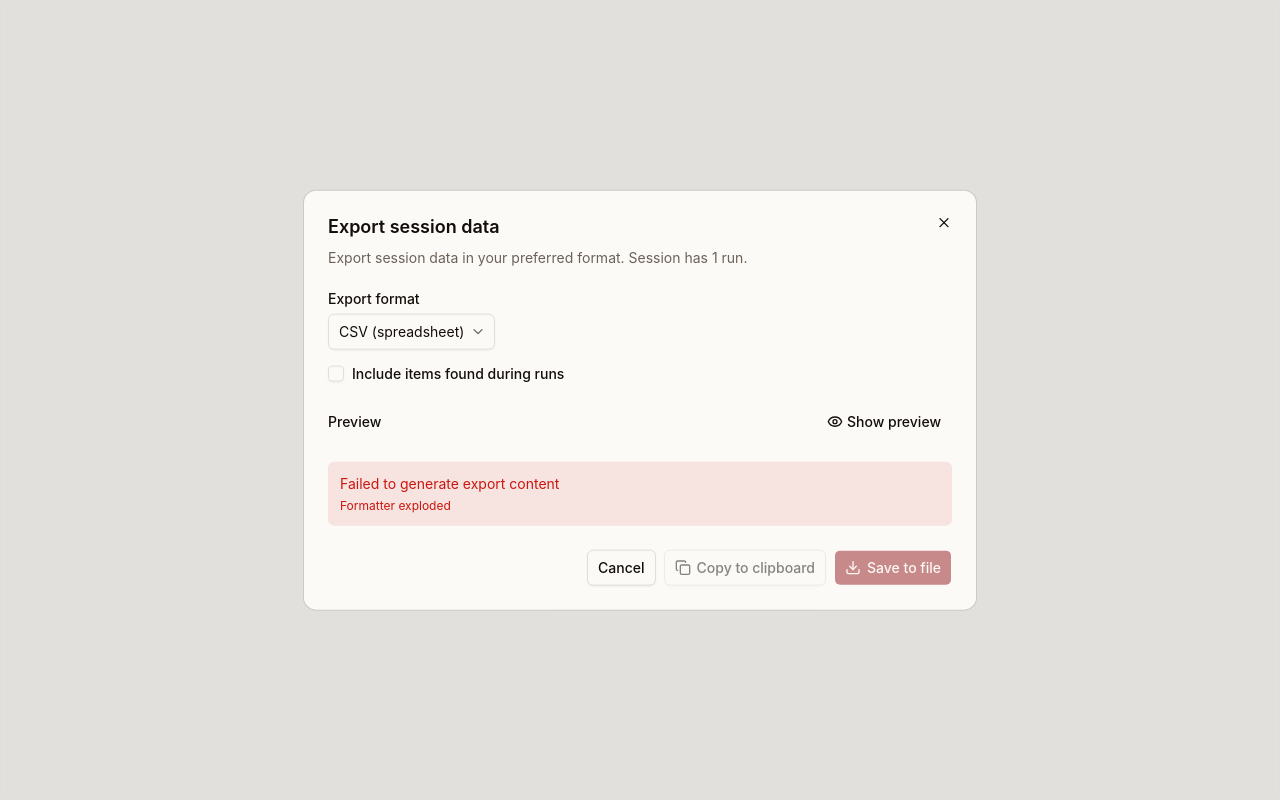
Test: When using the session export dialog › If generating the export fails and the format is then changed successfully, Then the generation error is cleared
Expected: the message shows "Failed to generate export content", x1=340 y1=474 x2=560 y2=491
Expected: the message shows "Formatter exploded", x1=340 y1=497 x2=451 y2=512
Click the dropdown named "Export format": (412, 331) x1=328 y1=313 x2=495 y2=349
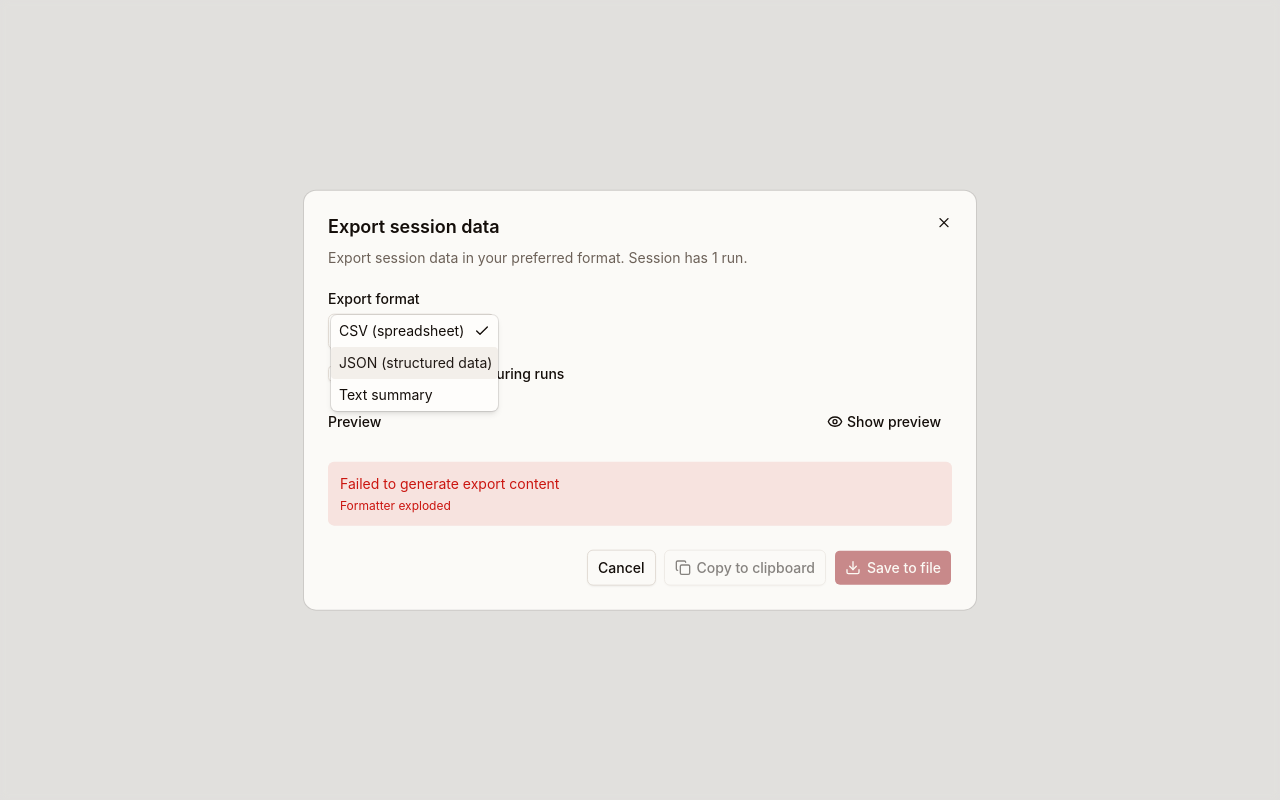
Click the option "JSON (structured data)": (414, 363) x1=331 y1=347 x2=498 y2=379
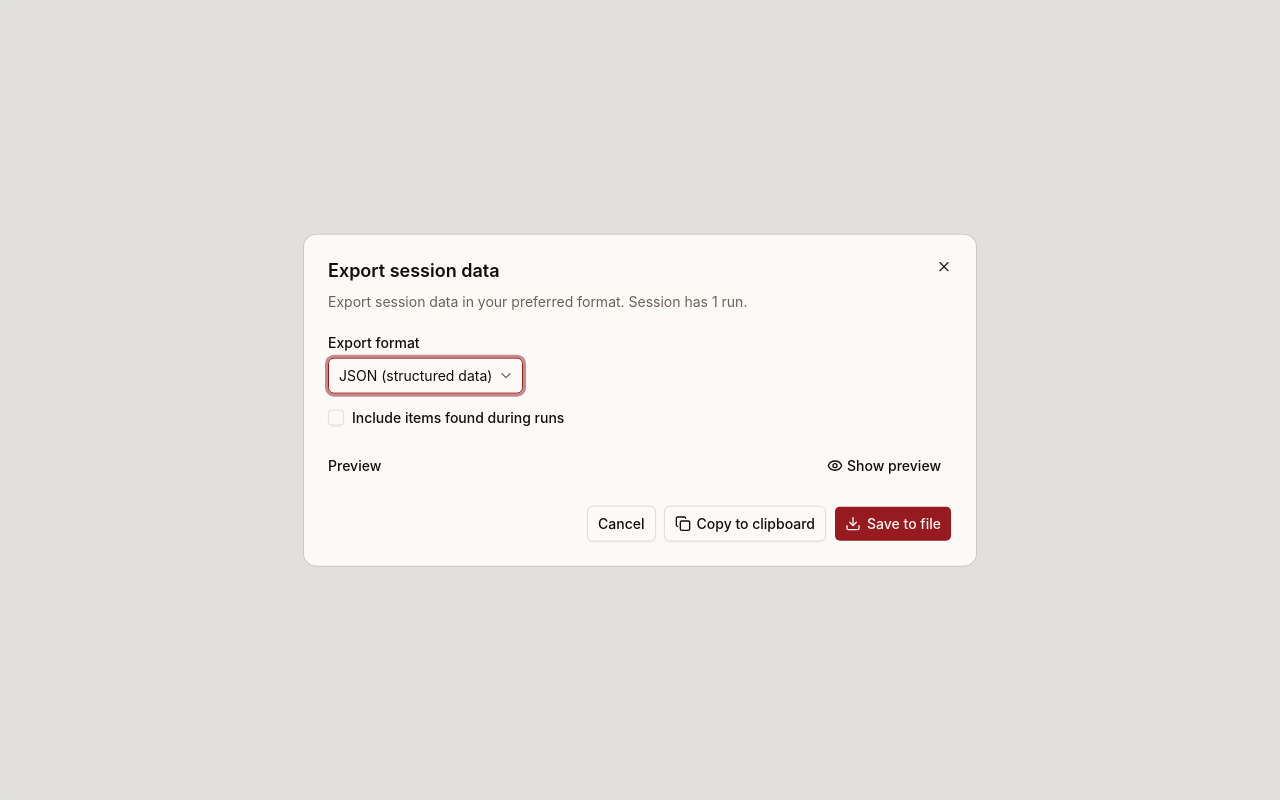
Now the message "Failed to generate export content Formatter exploded" is gone
Now the button "Save to file" is enabled, box x1=834 y1=505 x2=952 y2=541
